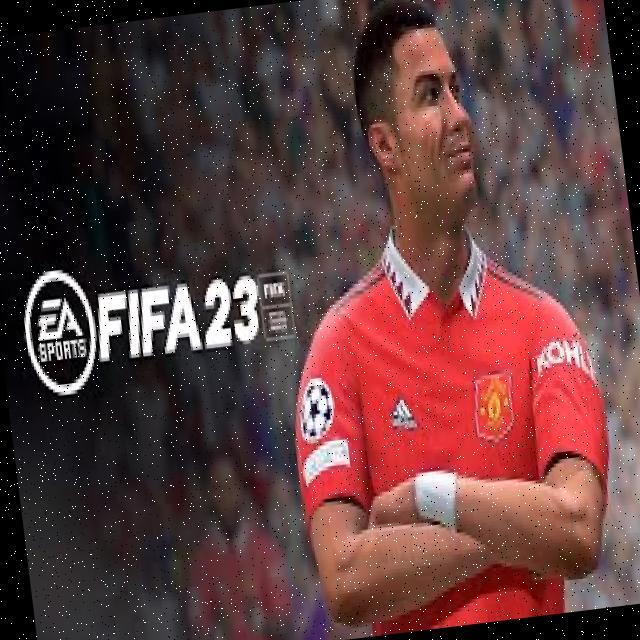Adidas: (387, 391, 421, 441)
Kohler: (532, 329, 601, 389)
